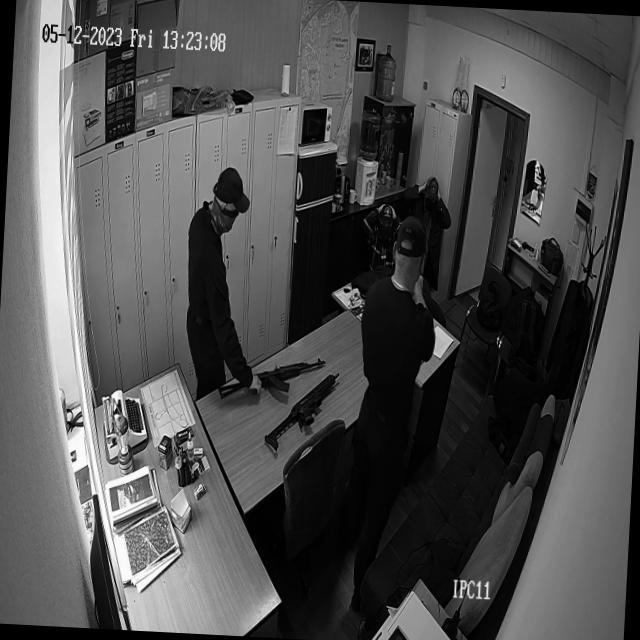gun: (234, 355, 326, 404)
person: (354, 214, 429, 626), (409, 158, 454, 216), (367, 188, 400, 256)
person with a gun: (179, 157, 265, 408)
